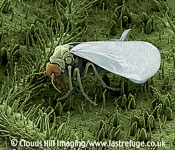whitefly: (43, 41, 164, 107)
